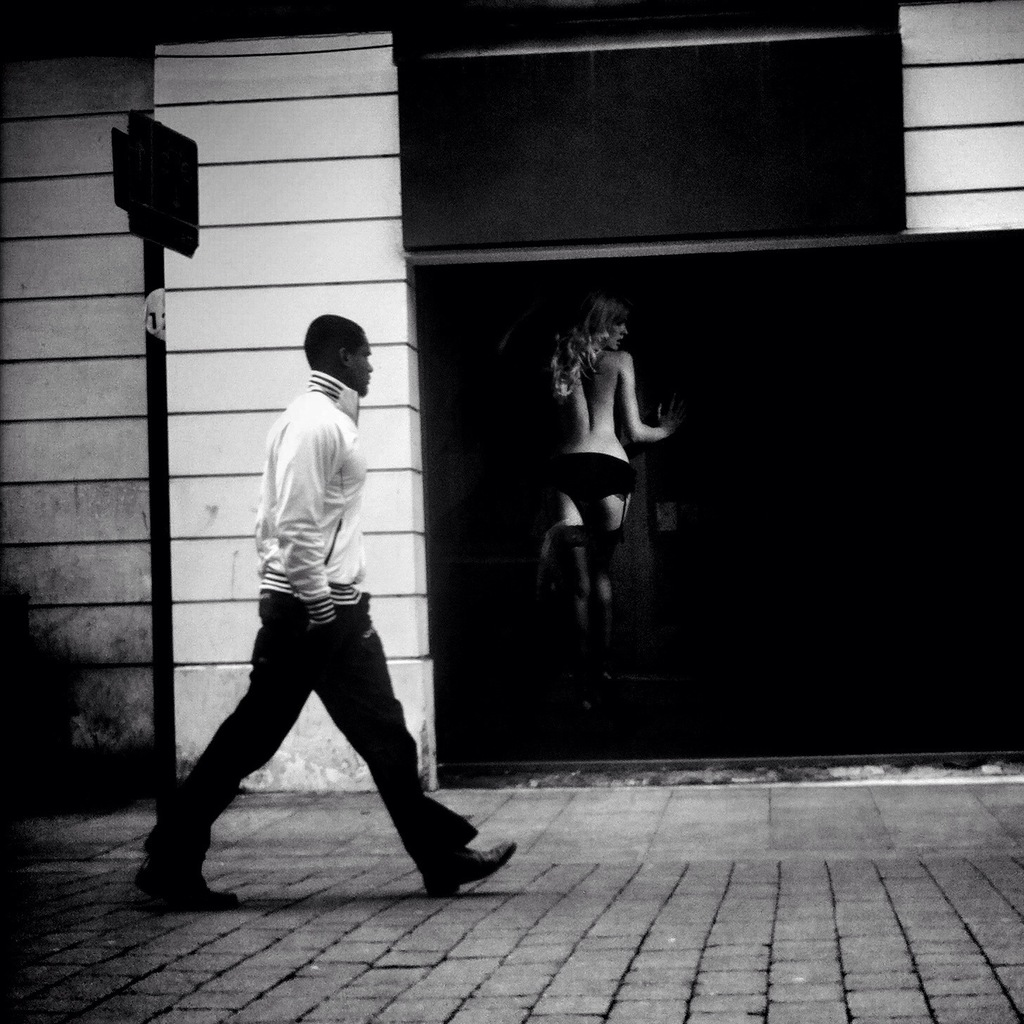Person: (544, 288, 688, 710)
